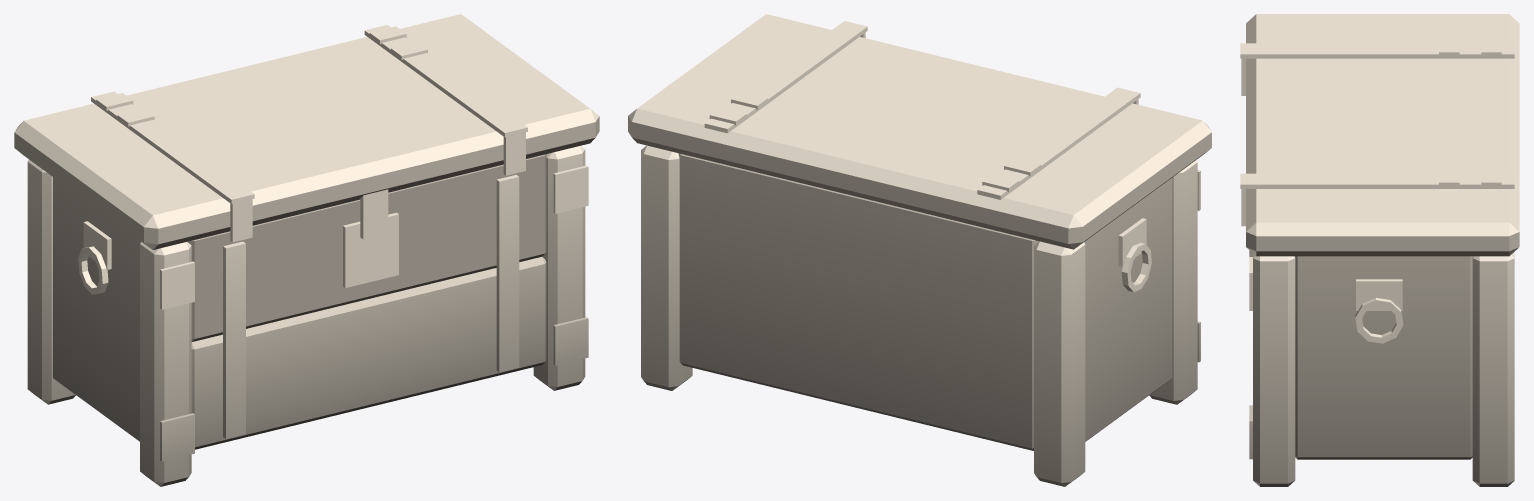
The model's file is SM_VKI_Prop_Chest.fbx.
3 renders of one model, left to right at view 1: azimuth 30°, elevation 25°; view 2: azimuth 150°, elevation 25°; view 3: azimuth 270°, elevation 25°, orthographic. The views are drawn at different scales.
Visible parts, largest first — view 1: SM_VKI_Prop_Chest.001; view 2: SM_VKI_Prop_Chest.001; view 3: SM_VKI_Prop_Chest.001.
Part boxes in pixels (box(x1,y1,x2,y2)): SM_VKI_Prop_Chest.001: box(14, 14, 599, 486); SM_VKI_Prop_Chest.001: box(628, 14, 1211, 486); SM_VKI_Prop_Chest.001: box(1240, 14, 1519, 486).
Bounding box in the file's own units: 1.1 × 0.652 × 0.597.
